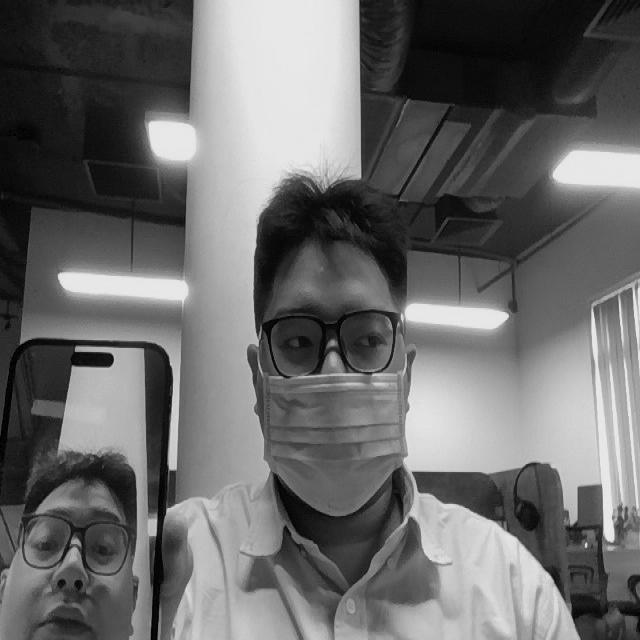fake: (0, 311, 176, 640), (0, 452, 143, 640), (261, 367, 411, 521)
real: (247, 162, 416, 546), (265, 294, 401, 372)
